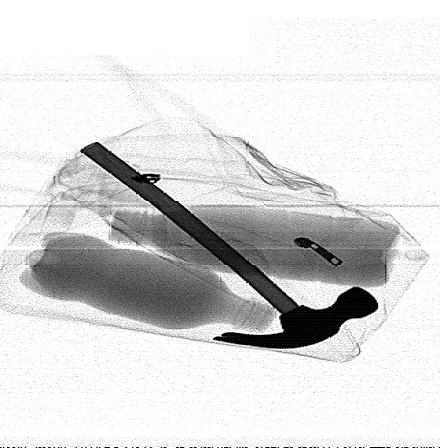Hammer: (79, 141, 379, 349)
